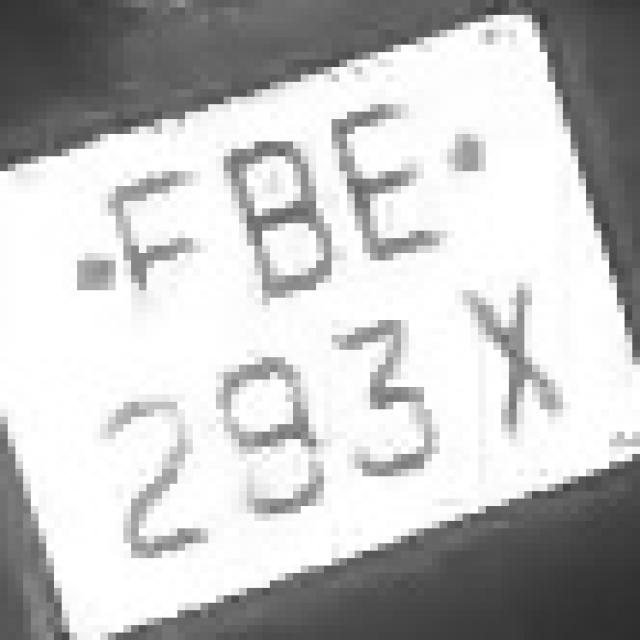2: (85, 364, 208, 580)
3: (324, 305, 439, 499)
9: (208, 335, 347, 536)
B: (208, 111, 332, 328)
E: (324, 90, 455, 276)
F: (92, 142, 224, 358)
X: (439, 230, 594, 447)
